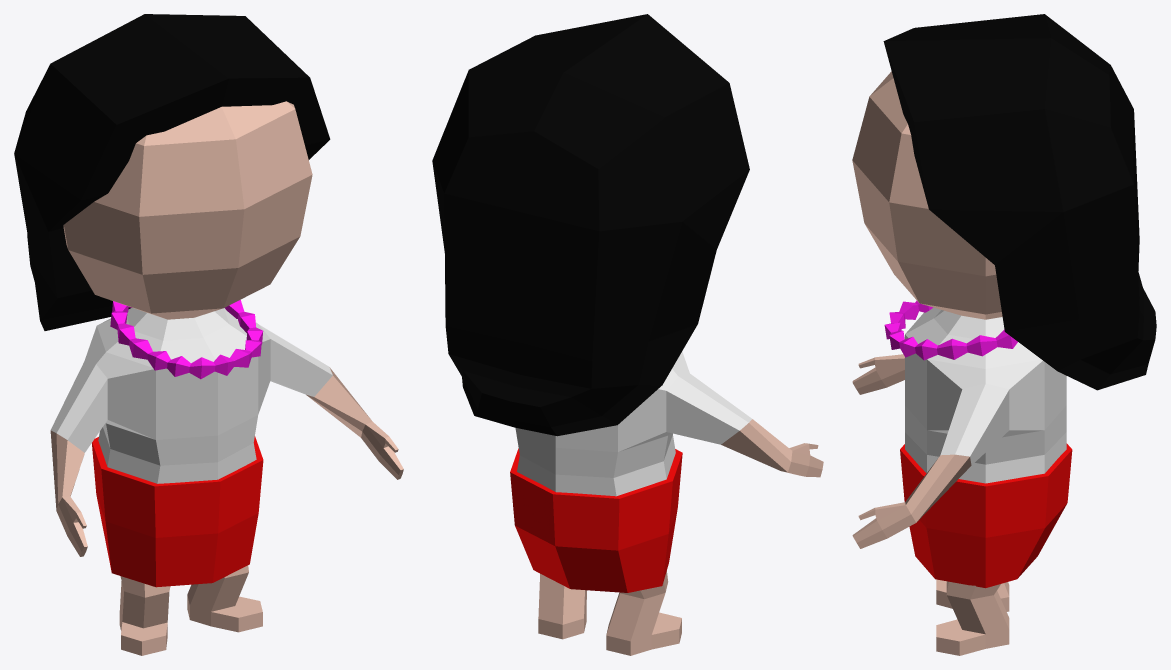
File: Kız çocuk.fbx
The picture shows the model from 3 angles, left to right: view 1: azimuth 30°, elevation 25°; view 2: azimuth 150°, elevation 25°; view 3: azimuth 270°, elevation 25°; orthographic projection.
Visible parts, largest first — view 1: Karakter; view 2: Karakter; view 3: Karakter.
Part boxes in pixels (x1=…): Karakter: x1=14, y1=14, x2=403, y2=655; Karakter: x1=432, y1=14, x2=823, y2=655; Karakter: x1=852, y1=14, x2=1156, y2=655.
Bounding box in the file's own units: 157 × 273 × 129.
